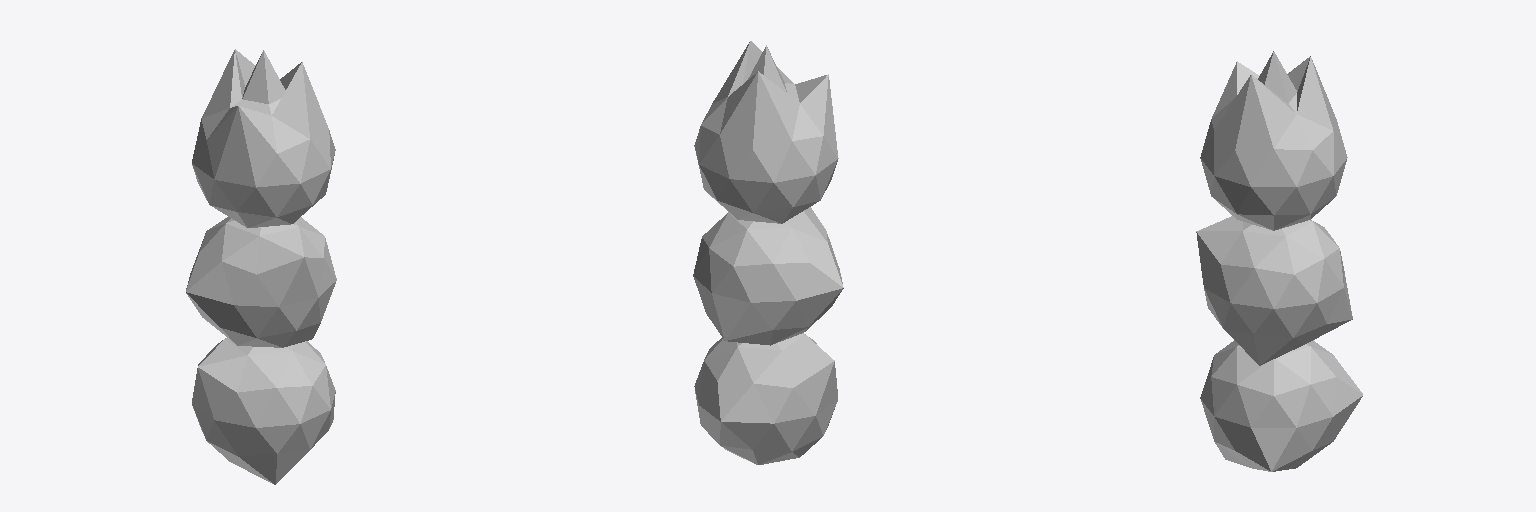
The model's file is Pokey.obj.
The picture shows the model from 3 angles: view 1: azimuth 30°, elevation 25°; view 2: azimuth 150°, elevation 25°; view 3: azimuth 270°, elevation 25°; orthographic projection.
Visible parts, largest first — view 1: Head_Icosphere.002, Icosphere, Icosphere.001; view 2: Head_Icosphere.002, Icosphere.001, Icosphere; view 3: Head_Icosphere.002, Icosphere.001, Icosphere.
Part boxes in pixels (x1,y1,x2,y2): Head_Icosphere.002: (192,49,335,227); Icosphere: (192,338,335,484); Icosphere.001: (186,217,336,347); Head_Icosphere.002: (694,41,838,223); Icosphere.001: (693,207,843,345); Icosphere: (694,333,837,464); Head_Icosphere.002: (1200,51,1347,230); Icosphere.001: (1196,216,1352,365); Icosphere: (1200,340,1362,471).
Bounding box in the file's own units: 1.15 × 3.11 × 1.14.